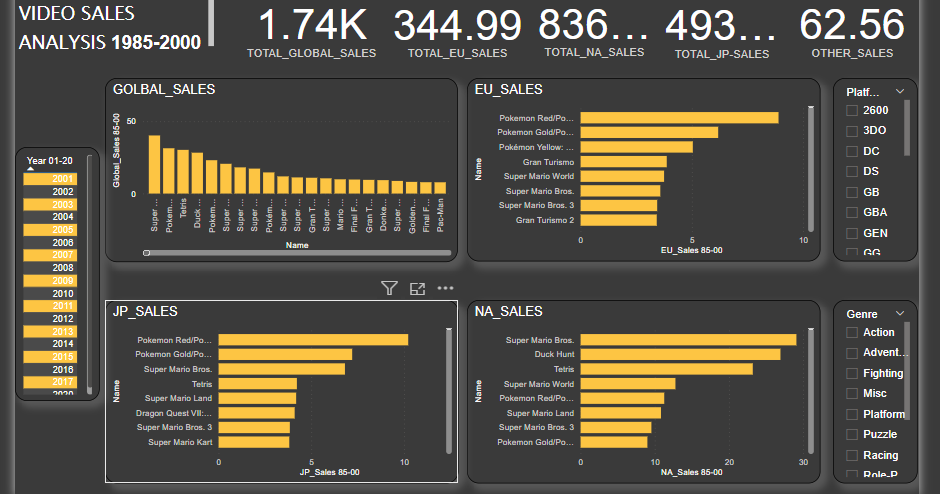

Layout of this report page (visuals, bound fields, positions):
{"tool":"powerbi","page":{"name":"sales1985-2000","canvas":[1280,720],"ordinal":0},"visuals":[{"type":"card","fields":{"Values":["Sum(vgsales1985-2000.EU_Sales 85-00)"]},"box":[523.4,1.4,208.8,105.8],"z":0},{"type":"card","fields":{"Values":["Sum(vgsales1985-2000.NA_Sales 85-00)"]},"box":[732.2,0,177.3,105.8],"z":1000},{"type":"card","fields":{"Values":["Sum(vgsales1985-2000.JP_Sales 85-00)"]},"box":[909.6,0,184.5,110.1],"z":2000},{"type":"card","fields":{"Values":["Sum(vgsales1985-2000.Other_Sales 85-00)"]},"box":[1094.1,0,185.9,107.3],"z":3000},{"type":"card","fields":{"Values":["Sum(vgsales1985-2000.Global_Sales 85-00)"]},"box":[317.5,0,205.9,107.3],"z":4000},{"type":"barChart","title":"EU_SALES","fields":{"Y":["Sum(vgsales1985-2000.EU_Sales 85-00)"],"Category":["vgsales1985-2000.Name"]},"box":[640.7,125.9,500.6,260.3],"z":5000},{"type":"clusteredColumnChart","title":"GOLBAL_SALES","fields":{"Y":["Sum(vgsales1985-2000.Global_Sales 85-00)"],"Category":["vgsales1985-2000.Name"]},"box":[127.6,126.1,500.3,260.8],"z":6000},{"type":"textbox","box":[0,10,287.5,90.1],"z":7000},{"type":"barChart","title":"NA_SALES","fields":{"Y":["Sum(vgsales1985-2000.NA_Sales 85-00)"],"Category":["vgsales1985-2000.Name"]},"box":[640.7,440.5,500.6,260.3],"z":8000},{"type":"barChart","title":"JP_SALES","fields":{"Y":["Sum(vgsales1985-2000.JP_Sales 85-00)"],"Category":["vgsales1985-2000.Name"]},"box":[127.3,440.5,500.6,260.3],"z":9000},{"type":"tableEx","fields":{"Values":["vgsales2001-2020.Year 01-20"]},"box":[0,224.5,120.1,360.4],"z":10000},{"type":"slicer","fields":{"Values":["vgsales1985-2000.Genre"]},"box":[1159.9,440.5,120.1,260.3],"z":11000},{"type":"slicer","fields":{"Values":["vgsales1985-2000.Platform"]},"box":[1159.9,125.9,120.1,260.3],"z":12000}]}

Visuals, with their boxes on the page's 1280x720 design canvas (x1, y1, x2, y2). These are canvas units, not pixel positions in the 940x494 screenshot, which may show the page scaled, cropped or inside an application window:
card - Sum(vgsales1985-2000.EU_Sales 85-00): Rect(523, 1, 732, 107)
card - Sum(vgsales1985-2000.NA_Sales 85-00): Rect(732, 0, 910, 106)
card - Sum(vgsales1985-2000.JP_Sales 85-00): Rect(910, 0, 1094, 110)
card - Sum(vgsales1985-2000.Other_Sales 85-00): Rect(1094, 0, 1280, 107)
card - Sum(vgsales1985-2000.Global_Sales 85-00): Rect(318, 0, 523, 107)
"EU_SALES" barChart: Rect(641, 126, 1141, 386)
"GOLBAL_SALES" clusteredColumnChart: Rect(128, 126, 628, 387)
textbox: Rect(0, 10, 288, 100)
"NA_SALES" barChart: Rect(641, 440, 1141, 701)
"JP_SALES" barChart: Rect(127, 440, 628, 701)
tableEx - vgsales2001-2020.Year 01-20: Rect(0, 224, 120, 585)
slicer - vgsales1985-2000.Genre: Rect(1160, 440, 1280, 701)
slicer - vgsales1985-2000.Platform: Rect(1160, 126, 1280, 386)
